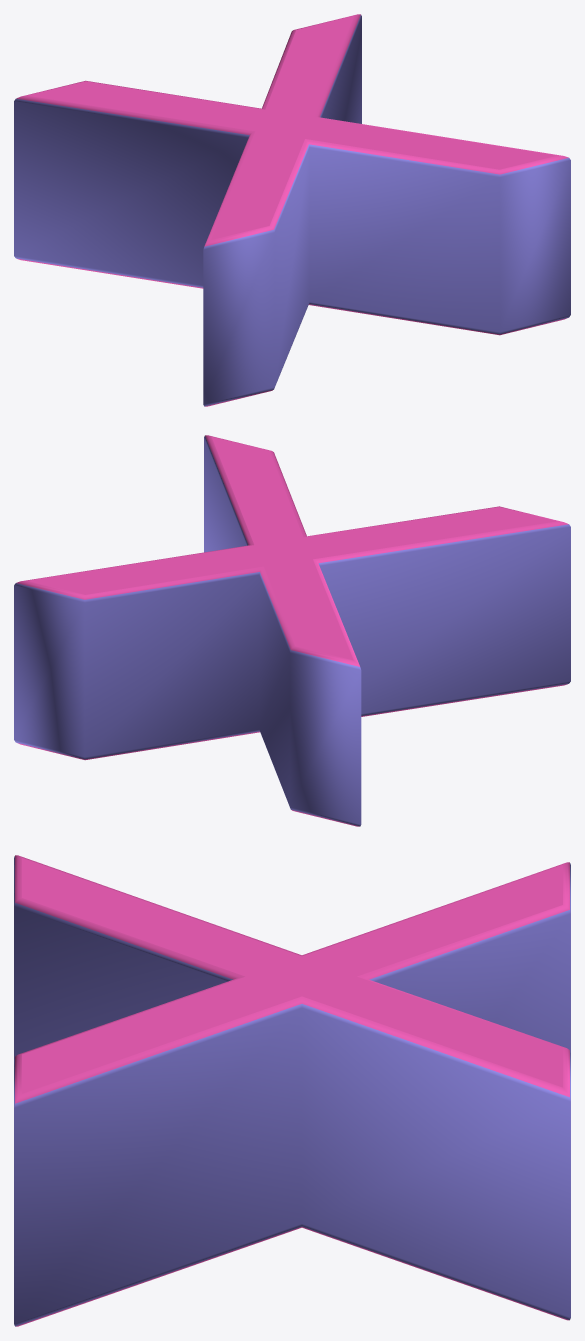
Rendered from letter_X.fbx.
3 views of the same model, one above another, from view 1: azimuth 30°, elevation 25°; view 2: azimuth 150°, elevation 25°; view 3: azimuth 270°, elevation 25° (orthographic). The views are drawn at different scales.
Visible parts, largest first — view 1: Letter_X; view 2: Letter_X; view 3: Letter_X.
Part boxes in pixels (x1=…): Letter_X: x1=14, y1=14, x2=570, y2=406; Letter_X: x1=14, y1=435, x2=570, y2=826; Letter_X: x1=14, y1=855, x2=570, y2=1326.
Bounding box in the file's own units: 74.65 × 32 × 70.2.
